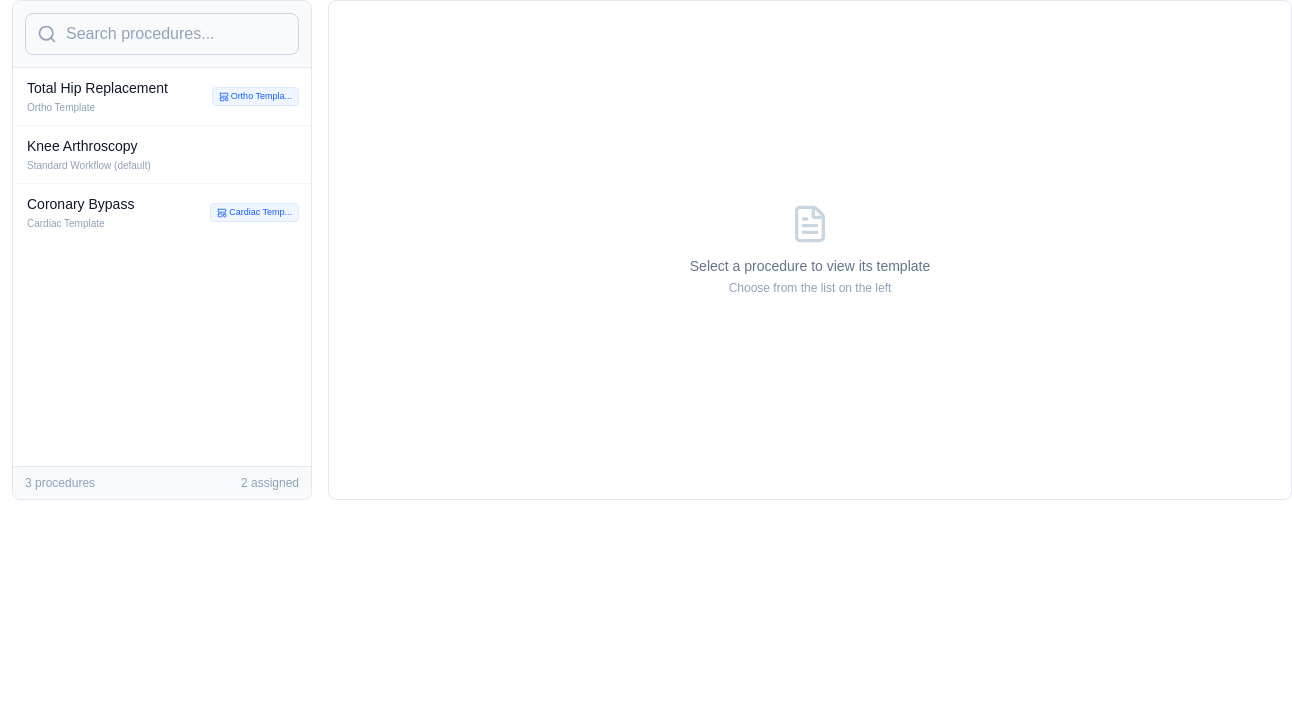
Test: ProcedureTemplateAssignment › procedure selection › shows template detail when procedure is clicked
This screenshot has width=1292, height=720.
Click the text "Total Hip Replacement". click: (97, 88)
box: [27,80,168,96]
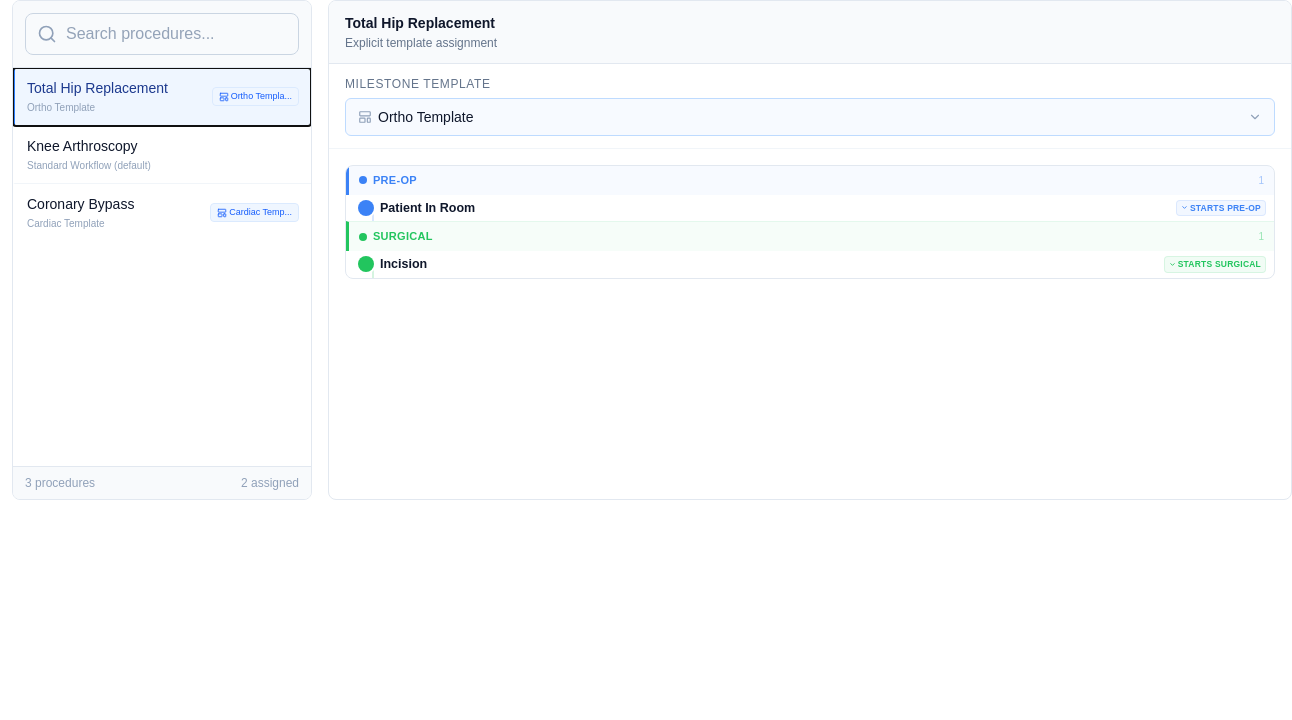
Now the text "Explicit template assignment" is shown, box [345,36,497,50]
Now the text "Milestone Template" is shown, box [345,77,490,91]
